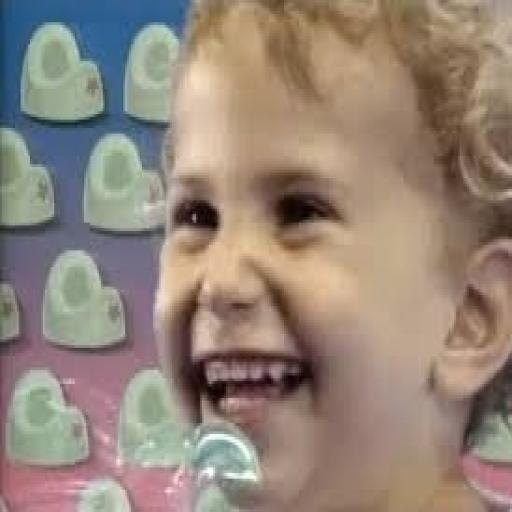laughing: (129, 2, 503, 504)
